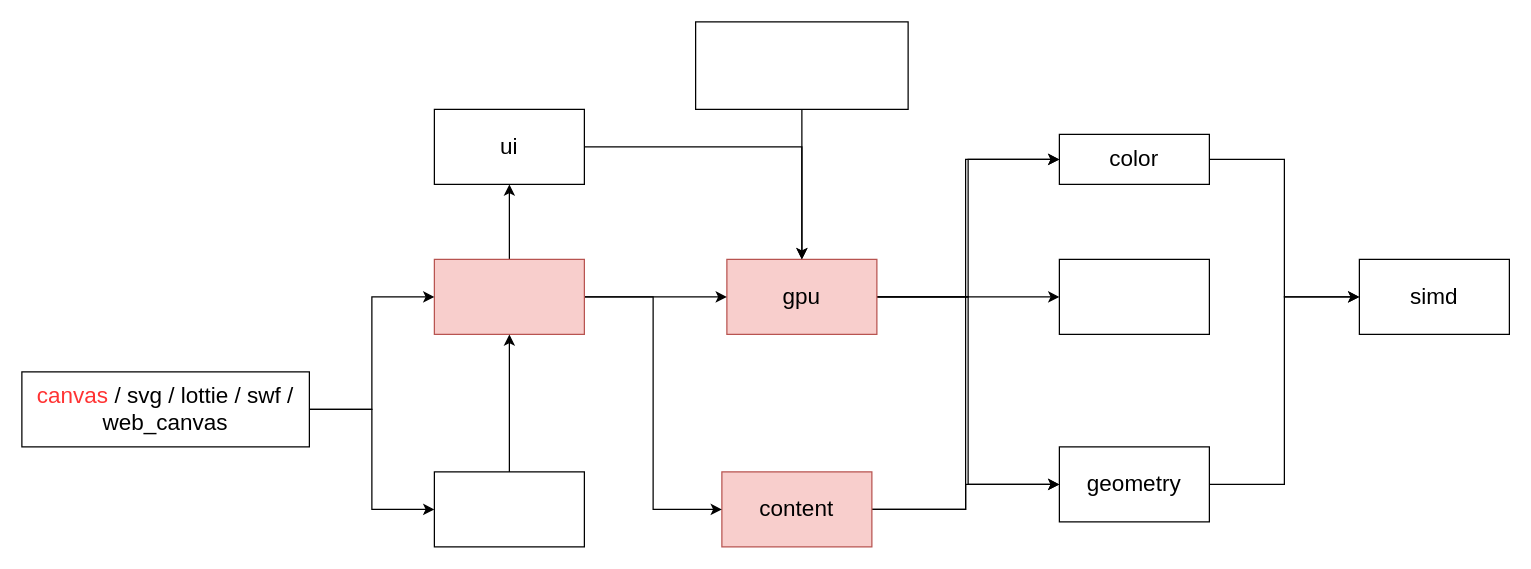
The diagram is 1531 pixels wide and 569 high, and some of its shapes have lost their labels. The centre of each missing label's shape, as x and y in pixels:
gl / metal / webgl: [801,65]
renderer: [508,296]
resource: [1133,296]
text: [508,509]
